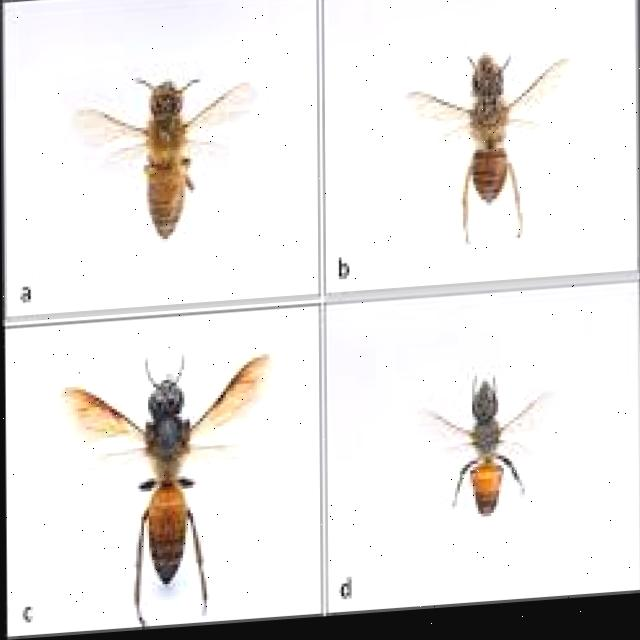Apis-mellifera-scutellata: (71, 341, 280, 623), (379, 34, 553, 260), (73, 54, 240, 244), (438, 358, 563, 529)
